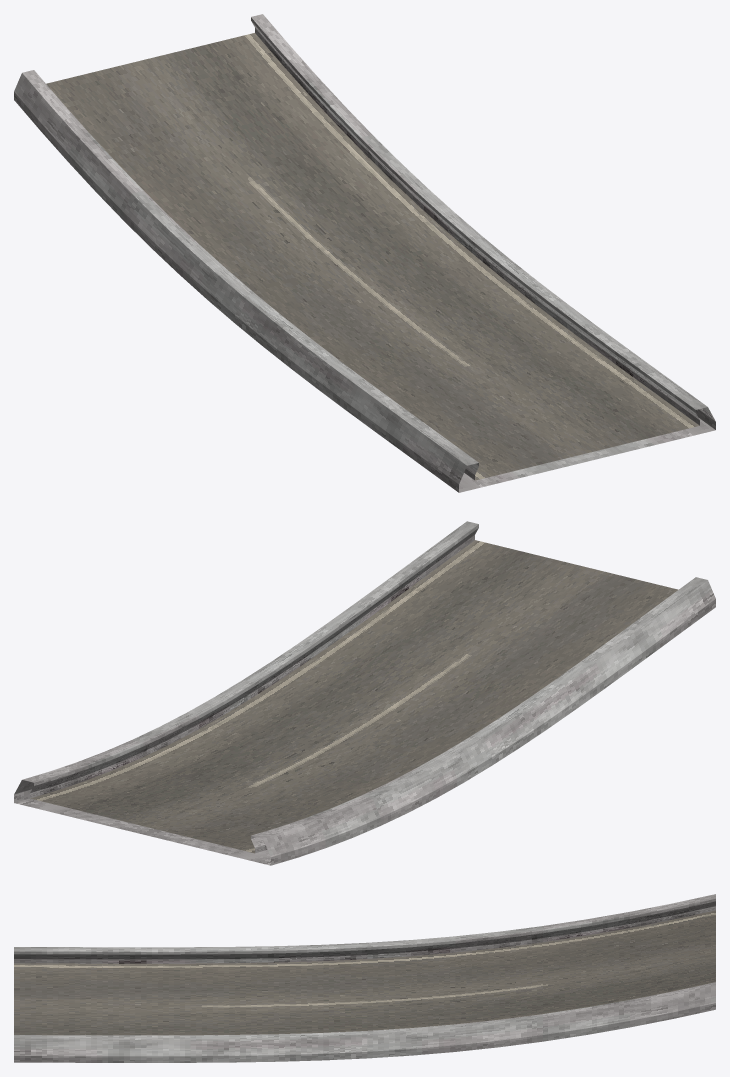
Rendered from road-Straight-Flat-BiSlopeUp-Up1-Center-Size3.glb.
3 renders of one model, top to bottom at view 1: azimuth 30°, elevation 25°; view 2: azimuth 150°, elevation 25°; view 3: azimuth 270°, elevation 25°, orthographic. The views are drawn at different scales.
Parts seen in each view (by area): view 1: road-Straight-Flat-BiSlopeUp-Up1-Center-Size3; view 2: road-Straight-Flat-BiSlopeUp-Up1-Center-Size3; view 3: road-Straight-Flat-BiSlopeUp-Up1-Center-Size3.
Part boxes in pixels (box(x1,y1,x2,y2)): road-Straight-Flat-BiSlopeUp-Up1-Center-Size3: box(14, 14, 715, 492); road-Straight-Flat-BiSlopeUp-Up1-Center-Size3: box(14, 521, 715, 865); road-Straight-Flat-BiSlopeUp-Up1-Center-Size3: box(14, 894, 715, 1062).
Bounding box in the file's own units: 1 × 0.3448 × 3.
2 materials, 2 textured.
